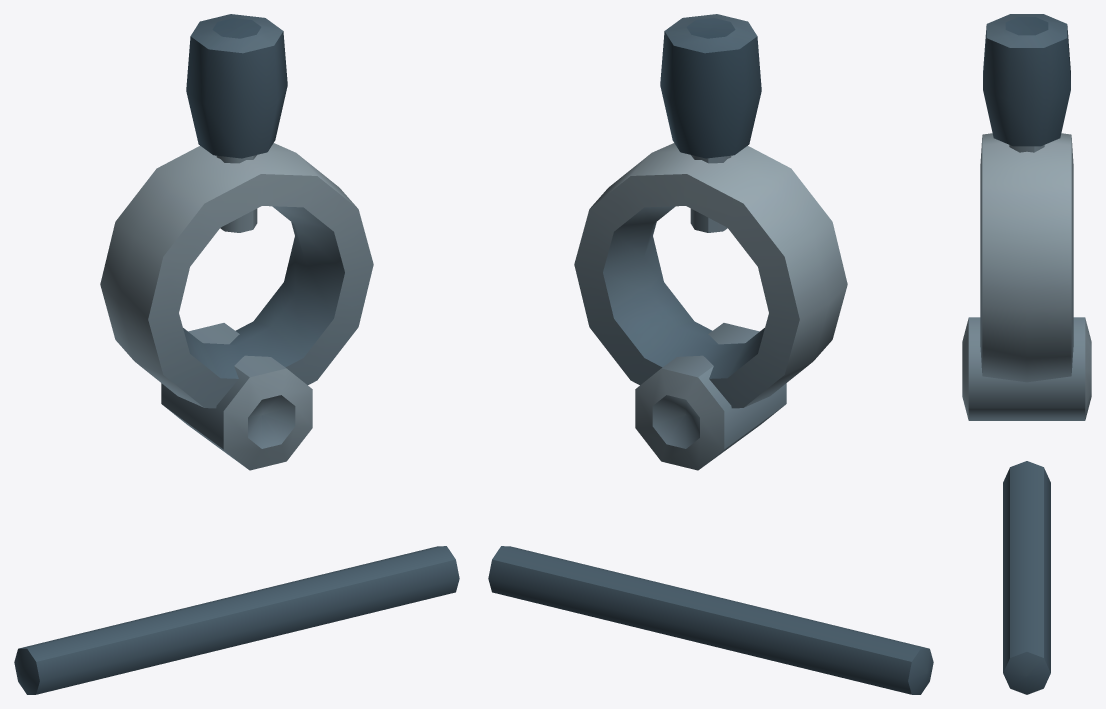
File: drafting_compass.obj
The picture shows the model from 3 angles, left to right: view 1: azimuth 30°, elevation 25°; view 2: azimuth 150°, elevation 25°; view 3: azimuth 270°, elevation 25°; orthographic projection. The views are drawn at different scales.
Visible parts, largest first — view 1: drafting_compass; view 2: drafting_compass; view 3: drafting_compass.
Part boxes in pixels (x1,y1,x2,y2): drafting_compass: (14, 14, 459, 694); drafting_compass: (488, 14, 933, 694); drafting_compass: (962, 14, 1091, 694).
Bounding box in the file's own units: 0.3625 × 0.4922 × 0.1006.
1 material, 1 textured.
